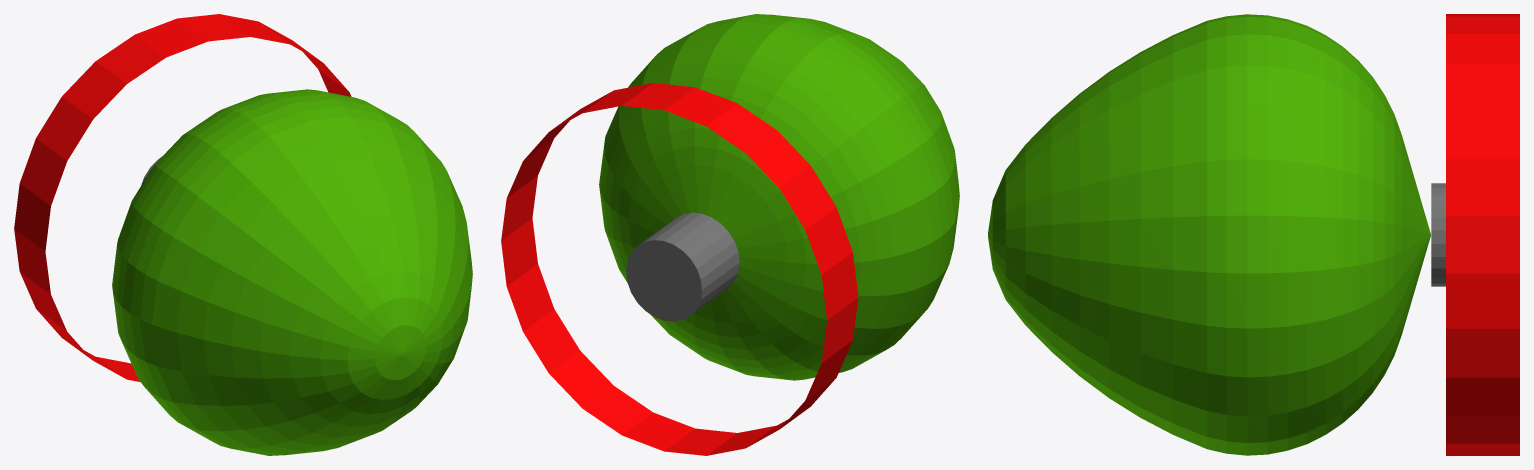
The model's file is HPE300cm.obj.
3 views of the same model, side by side, from view 1: azimuth 30°, elevation 25°; view 2: azimuth 150°, elevation 25°; view 3: azimuth 270°, elevation 25° (orthographic). The views are drawn at different scales.
Size of the model in its own units: 3 by 3 by 3.6.
